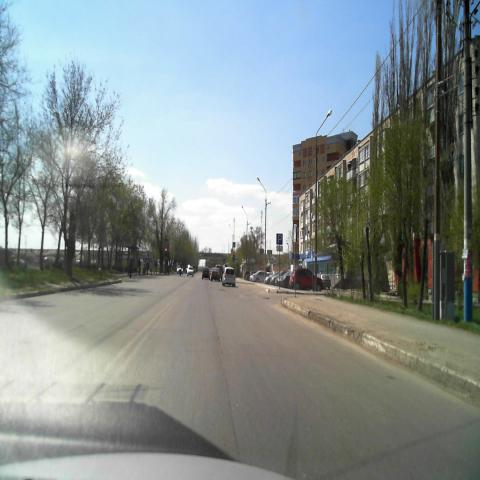6_4: (276, 233, 282, 244)
